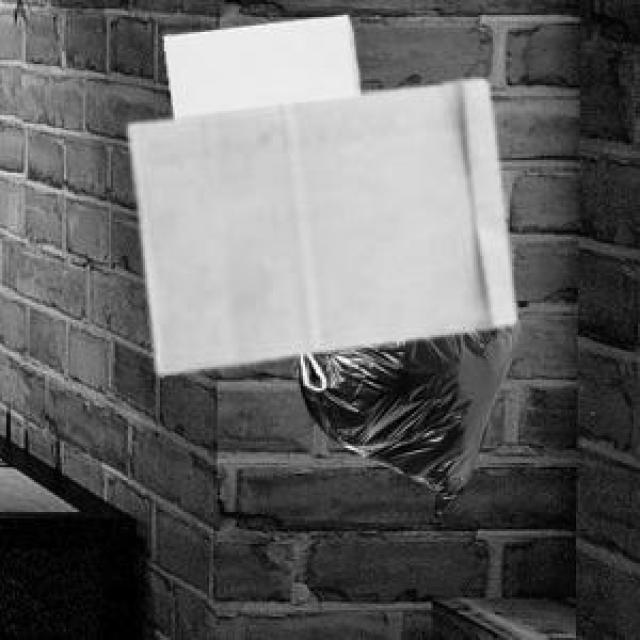miscellaneous trash: (290, 312, 518, 518)
paper: (126, 75, 512, 369), (160, 11, 355, 115)
